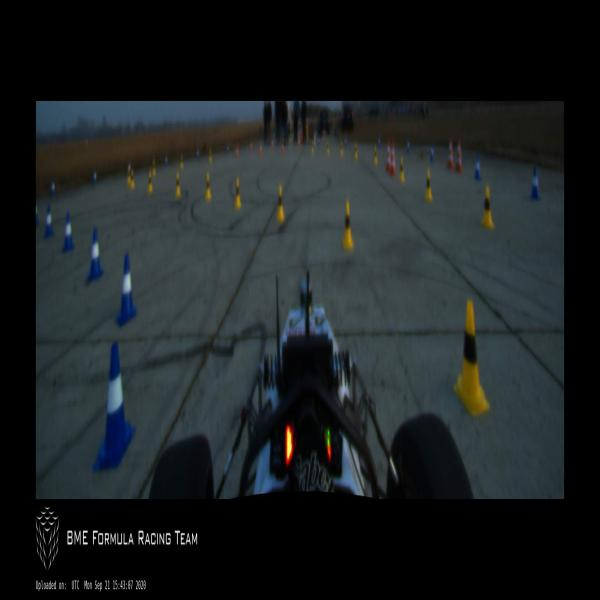blue_cone: (92, 342, 134, 470), (115, 255, 137, 326), (86, 228, 103, 280), (62, 213, 75, 251), (530, 165, 539, 199), (44, 203, 53, 236), (475, 154, 480, 178), (36, 200, 40, 225), (430, 144, 433, 162), (51, 179, 54, 195), (407, 139, 410, 153), (94, 172, 96, 184), (378, 136, 380, 147), (165, 153, 167, 164), (196, 148, 198, 158), (345, 136, 347, 146), (318, 137, 320, 146), (226, 146, 228, 154)
large_orange_cone: (456, 138, 462, 171), (390, 140, 396, 173), (448, 137, 453, 169), (386, 138, 390, 171)
orange_cone: (236, 146, 238, 158), (260, 144, 262, 156), (282, 142, 284, 154), (250, 141, 252, 152), (271, 139, 273, 150), (298, 139, 300, 148)
yellow_cone: (453, 300, 489, 415), (341, 200, 354, 247), (481, 186, 493, 229), (276, 184, 284, 220), (425, 170, 432, 201), (235, 178, 241, 208), (205, 175, 211, 199), (400, 157, 405, 181), (175, 172, 180, 195), (148, 171, 152, 192), (130, 168, 134, 188), (126, 166, 130, 184), (354, 141, 358, 159), (374, 147, 377, 164), (340, 140, 343, 155), (152, 160, 155, 174), (180, 154, 183, 168), (327, 141, 329, 154), (209, 149, 211, 162), (311, 141, 313, 152)
